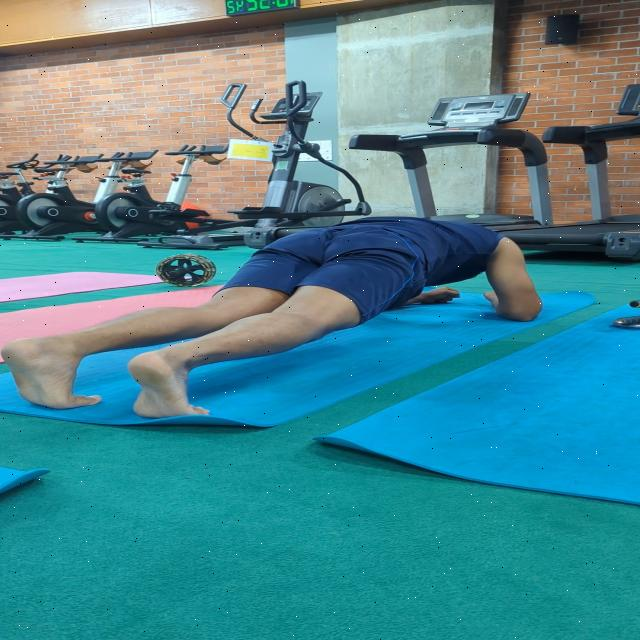Normal_Plunk: (0, 206, 551, 422)
